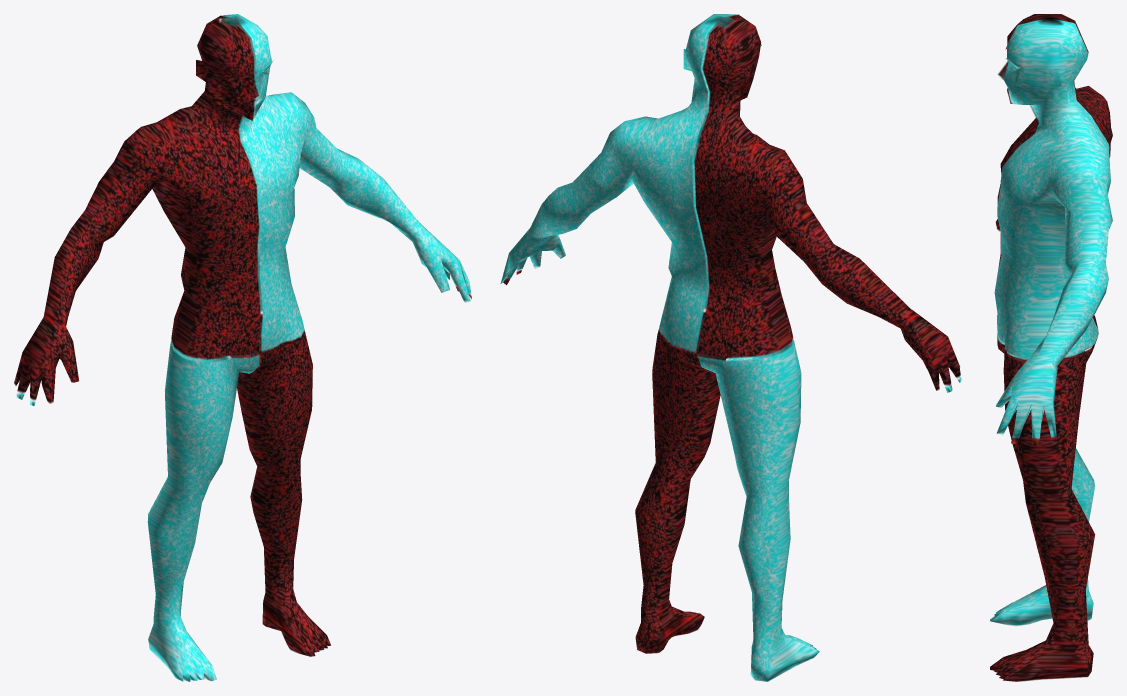
3 views of the same model, side by side, from view 1: azimuth 30°, elevation 25°; view 2: azimuth 150°, elevation 25°; view 3: azimuth 270°, elevation 25° (orthographic).
Visible parts, largest first — view 1: SM_PlayerMesh_LowPoly_LOD0; view 2: SM_PlayerMesh_LowPoly_LOD0; view 3: SM_PlayerMesh_LowPoly_LOD0.
Part boxes in pixels (<box>): SM_PlayerMesh_LowPoly_LOD0: <box>14,14,471,681</box>; SM_PlayerMesh_LowPoly_LOD0: <box>500,14,961,681</box>; SM_PlayerMesh_LowPoly_LOD0: <box>990,14,1112,681</box>.
Bounding box in the file's own units: 1.4 × 1.88 × 0.3327.
Materials: 1 (1 with a texture image).
